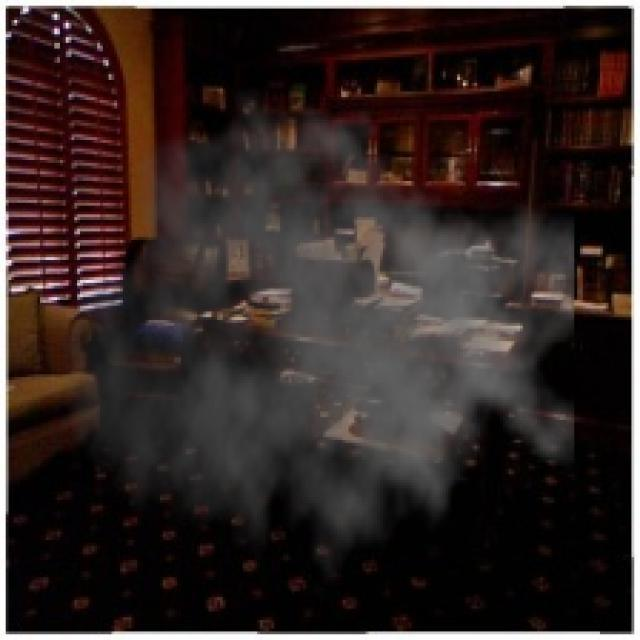Smoke: (59, 85, 574, 606)
